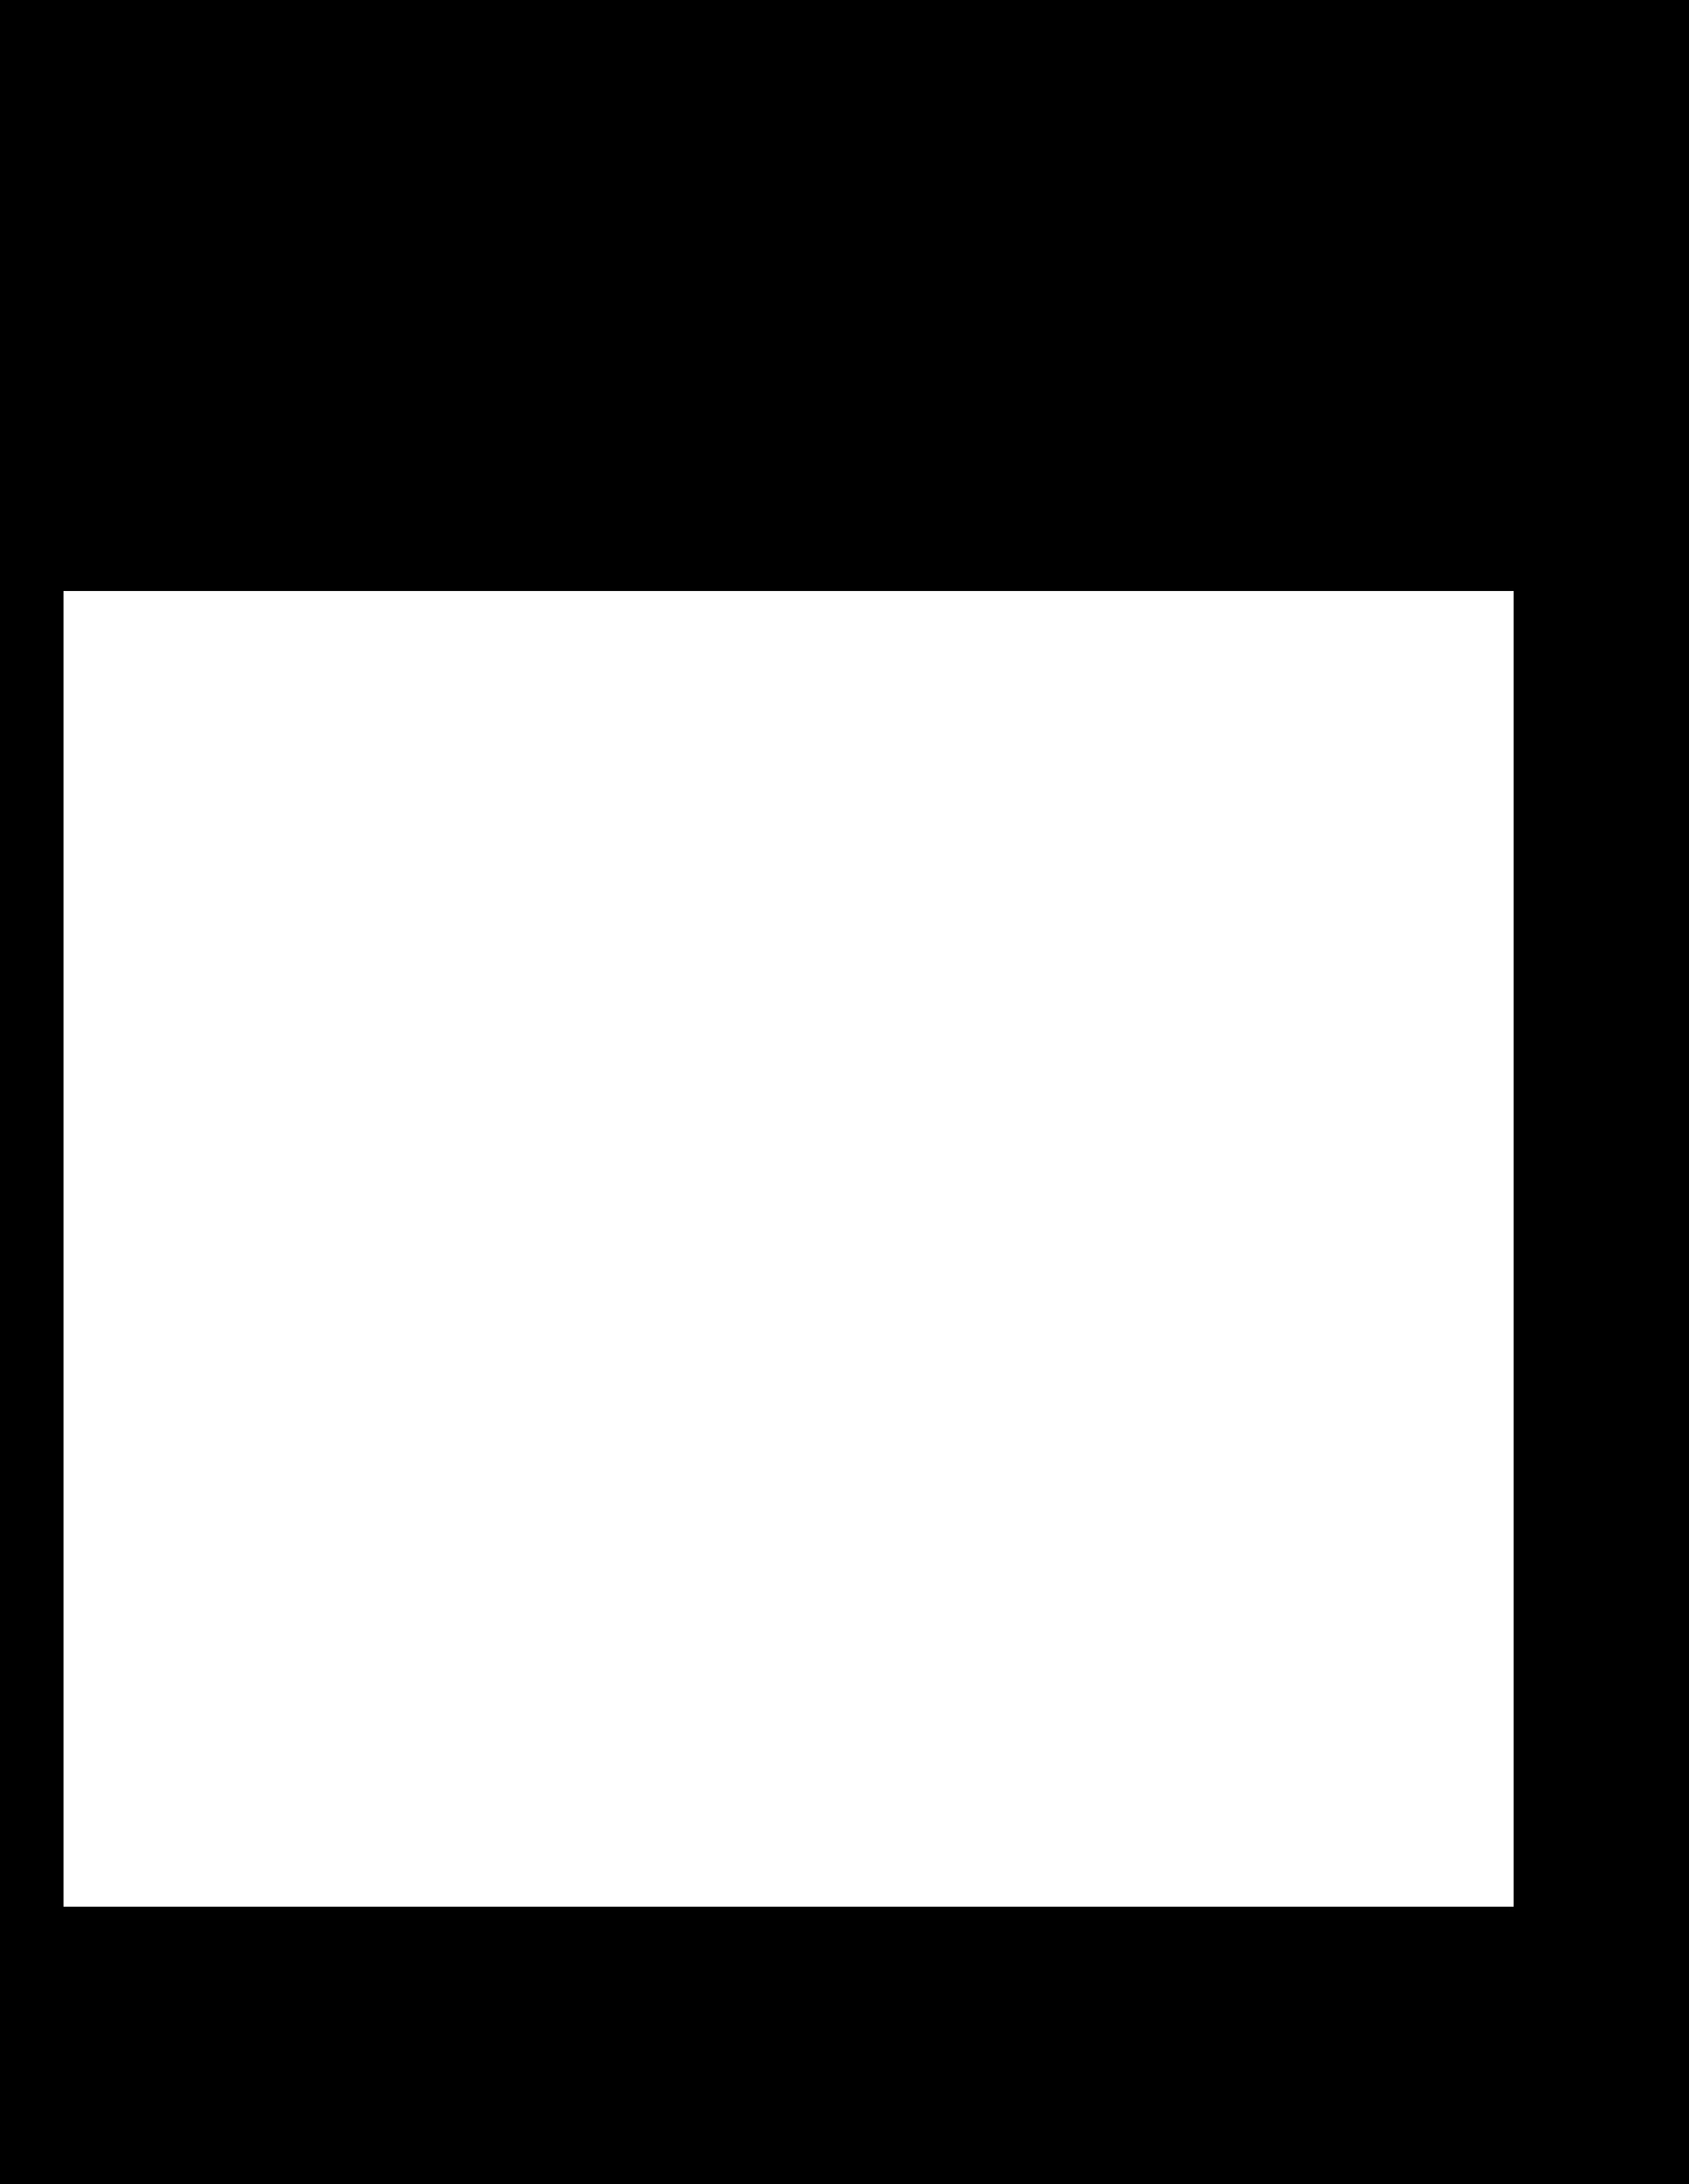table: (64, 590, 1514, 1906)
